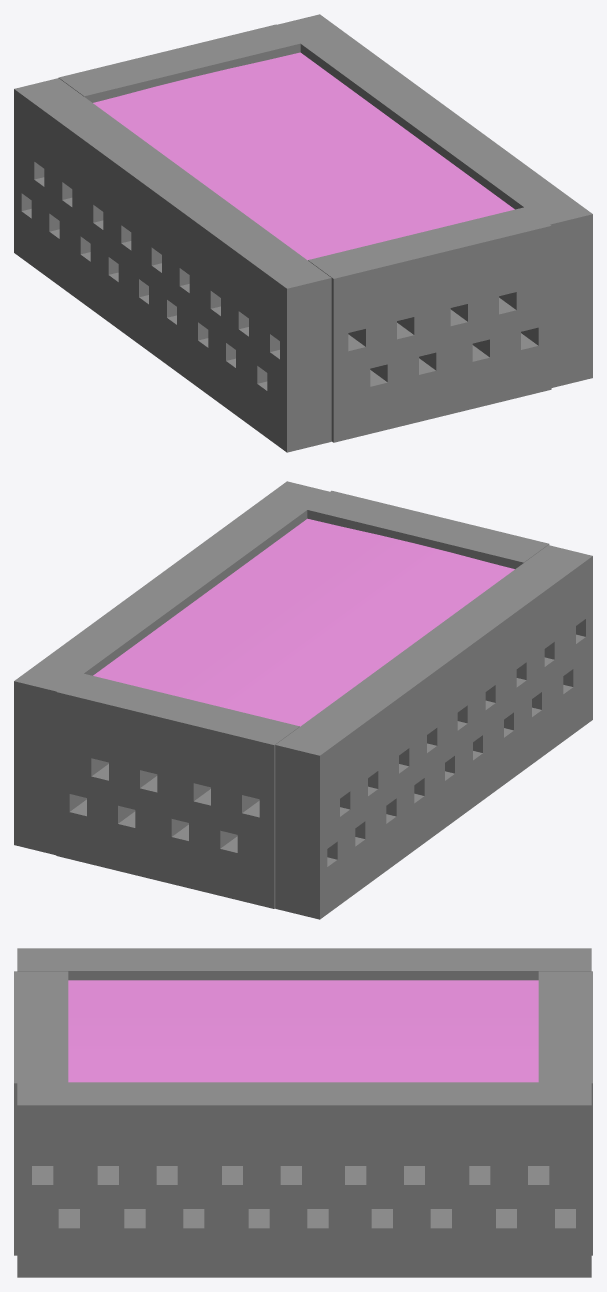
The model's file is passerelle02.fbx.
The picture shows the model from 3 angles, top to bottom: view 1: azimuth 30°, elevation 25°; view 2: azimuth 150°, elevation 25°; view 3: azimuth 270°, elevation 25°; orthographic projection. The views are drawn at different scales.
Parts seen in each view (by area): view 1: passerelle01; view 2: passerelle01; view 3: passerelle01.
Boxes of the visible parts, x1,y1,x2,y2 form: passerelle01: [14, 14, 592, 452]; passerelle01: [14, 481, 592, 919]; passerelle01: [14, 948, 592, 1277].
Size of the model in its own units: 1.91 by 0.9755 by 2.97.
